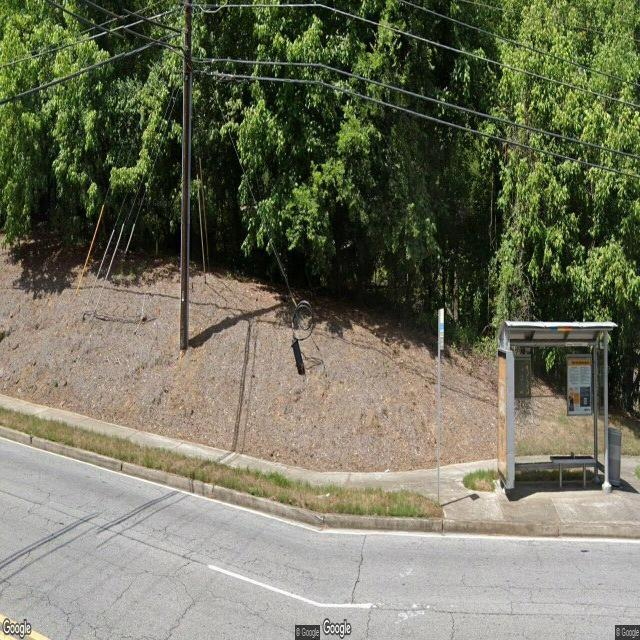seating: (550, 453, 594, 489)
shelter: (498, 319, 618, 496)
trash_can: (608, 424, 622, 484)
